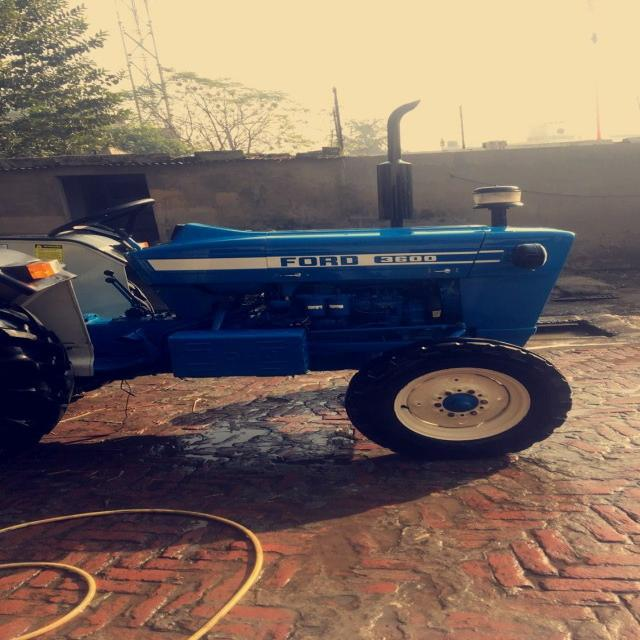tractor: (0, 109, 630, 552)
